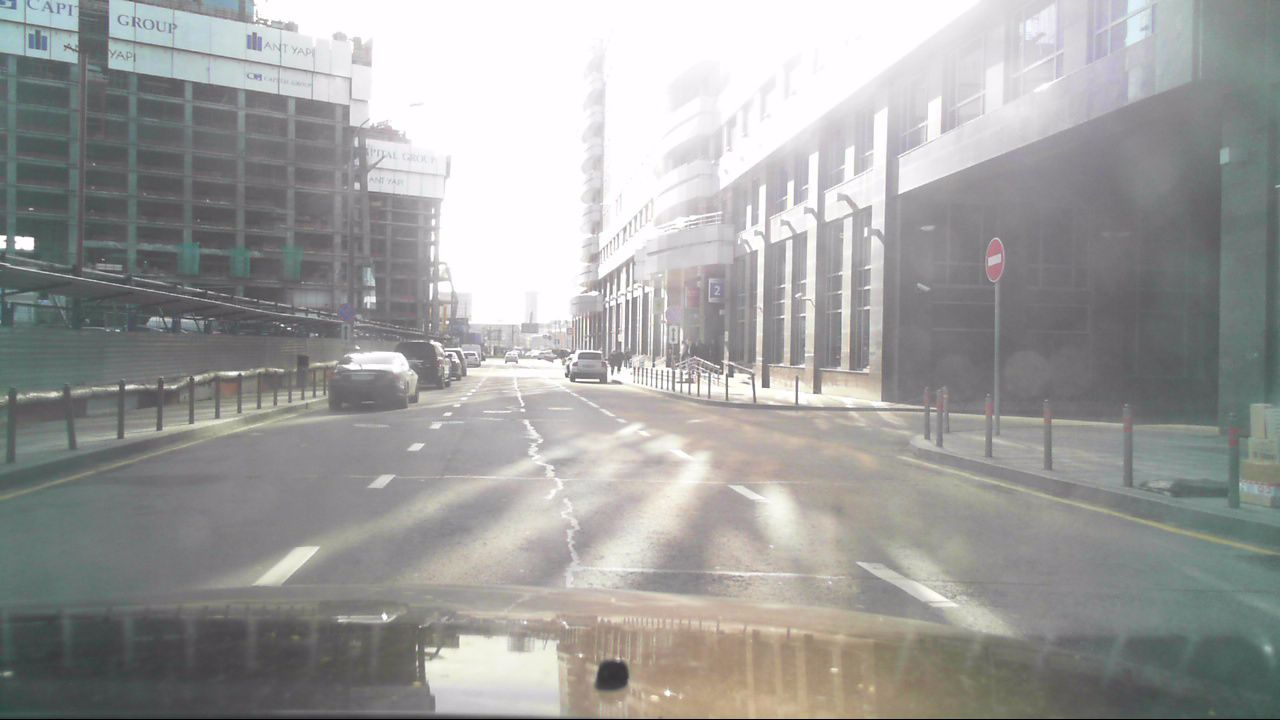No Parking: (334, 302, 357, 326)
